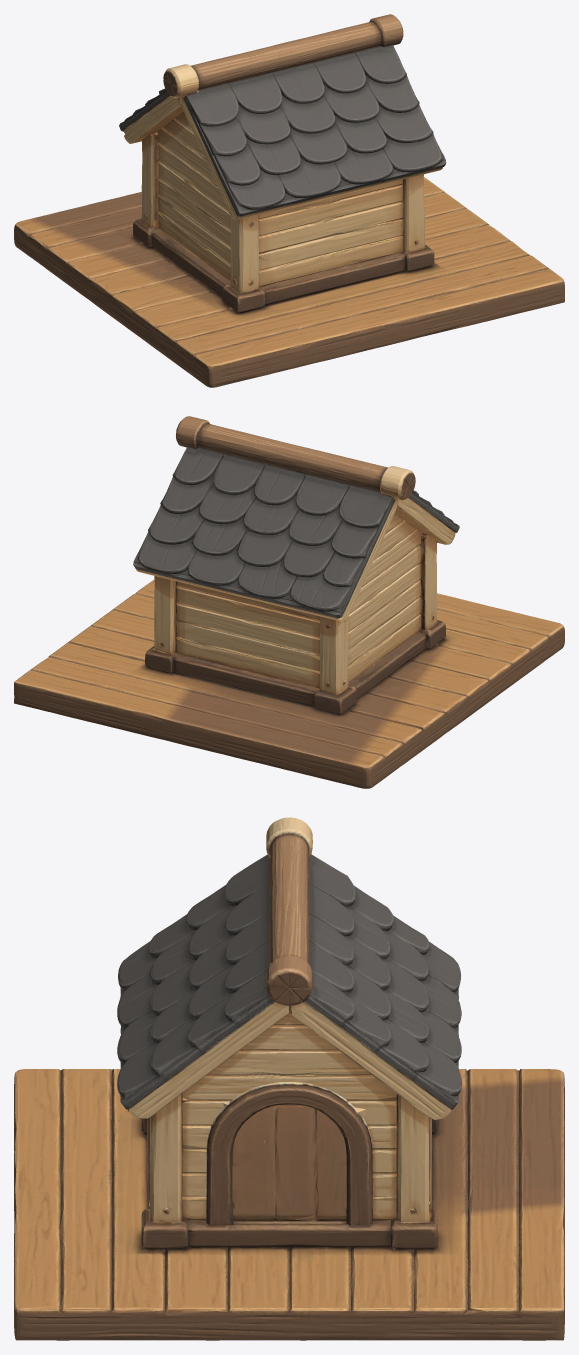
The model's file is DOM_budka_10__base.glb.
3 views of the same model, one above another, from view 1: azimuth 30°, elevation 25°; view 2: azimuth 150°, elevation 25°; view 3: azimuth 270°, elevation 25° (orthographic). The views are drawn at different scales.
Visible parts, largest first — view 1: tripo_node_48e93136-8c49-4417-897f-4277f6f20665; view 2: tripo_node_48e93136-8c49-4417-897f-4277f6f20665; view 3: tripo_node_48e93136-8c49-4417-897f-4277f6f20665.
Part boxes in pixels (bbox=[...]): tripo_node_48e93136-8c49-4417-897f-4277f6f20665: bbox=[14, 14, 564, 387]; tripo_node_48e93136-8c49-4417-897f-4277f6f20665: bbox=[14, 416, 564, 788]; tripo_node_48e93136-8c49-4417-897f-4277f6f20665: bbox=[14, 817, 564, 1340].
Bounding box in the file's own units: 0.9859 × 0.6123 × 0.9418.
Materials: 1 (1 with a texture image).
